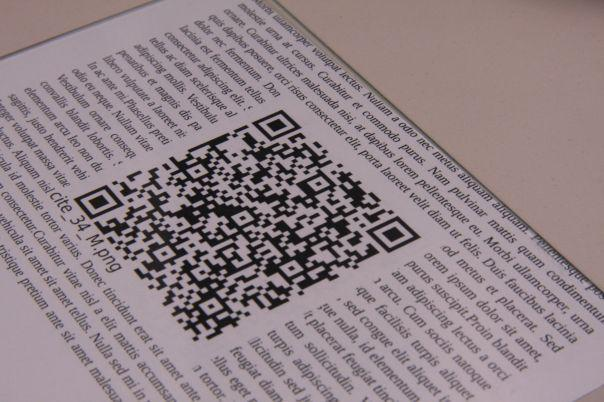Finder pattern: (370, 216, 419, 254), (251, 110, 303, 143), (80, 185, 121, 218)
